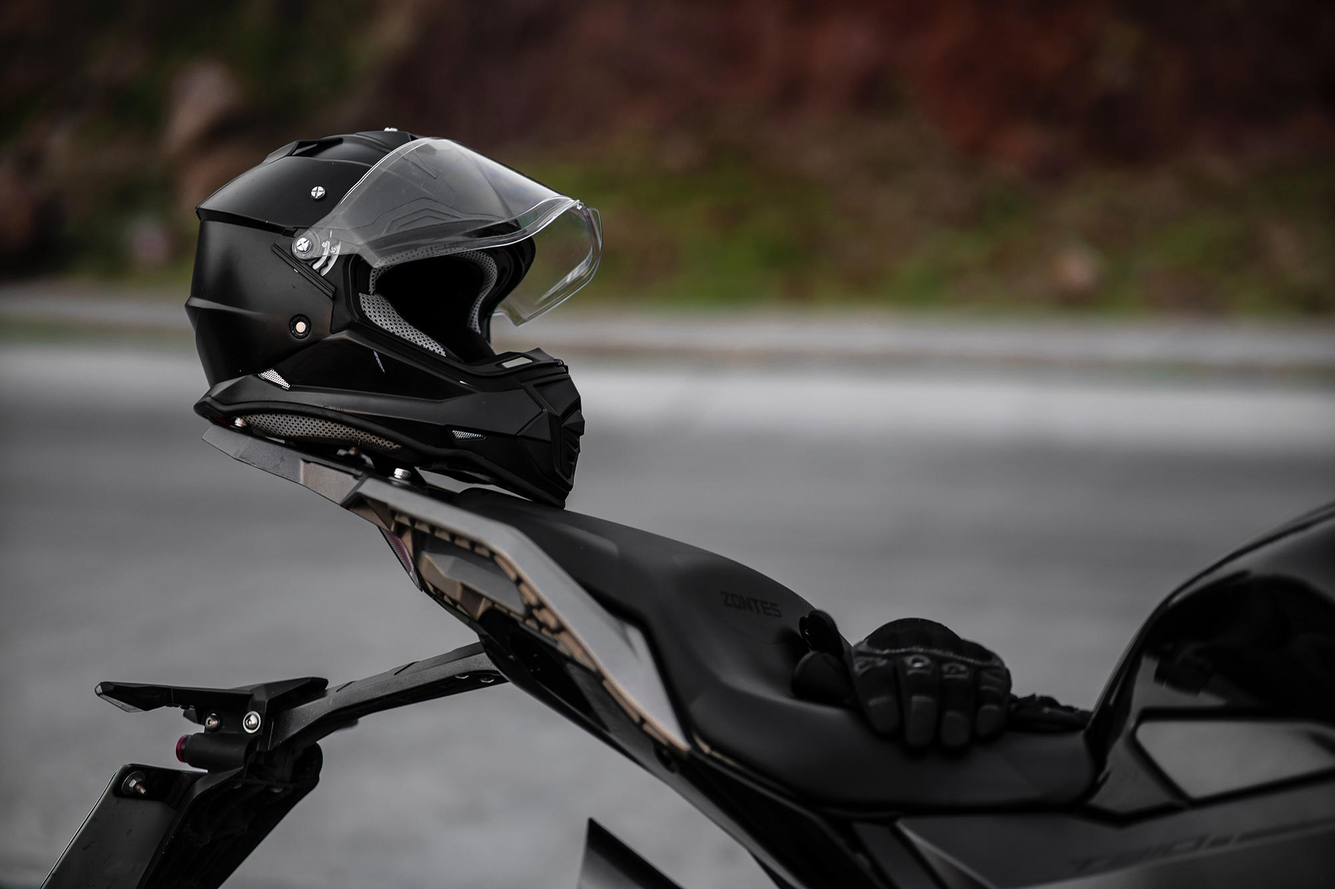helmet: (182, 124, 605, 513)
